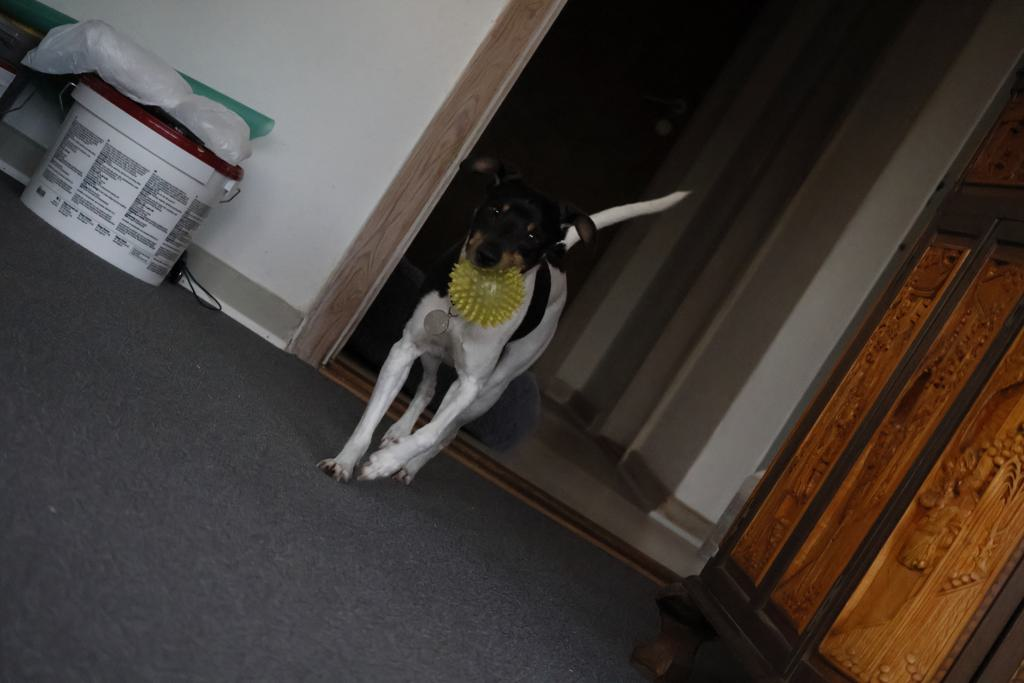Dog: (304, 144, 704, 493)
